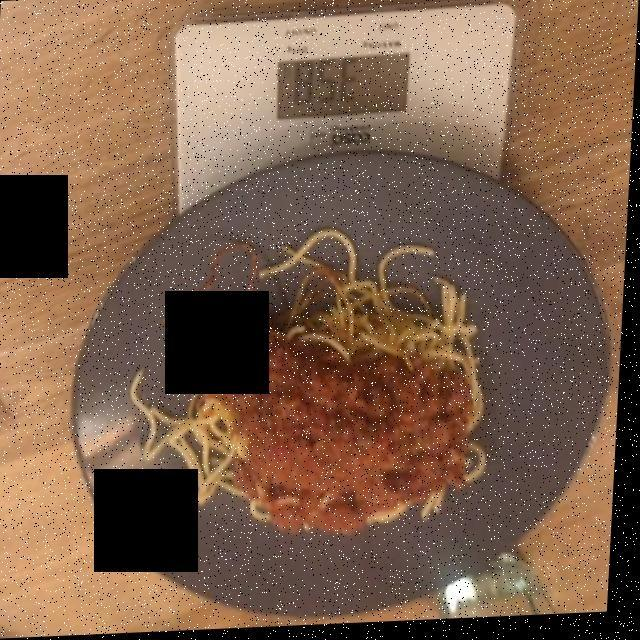bolognaise-sauce: (191, 321, 474, 533)
pasta: (152, 271, 479, 531)
